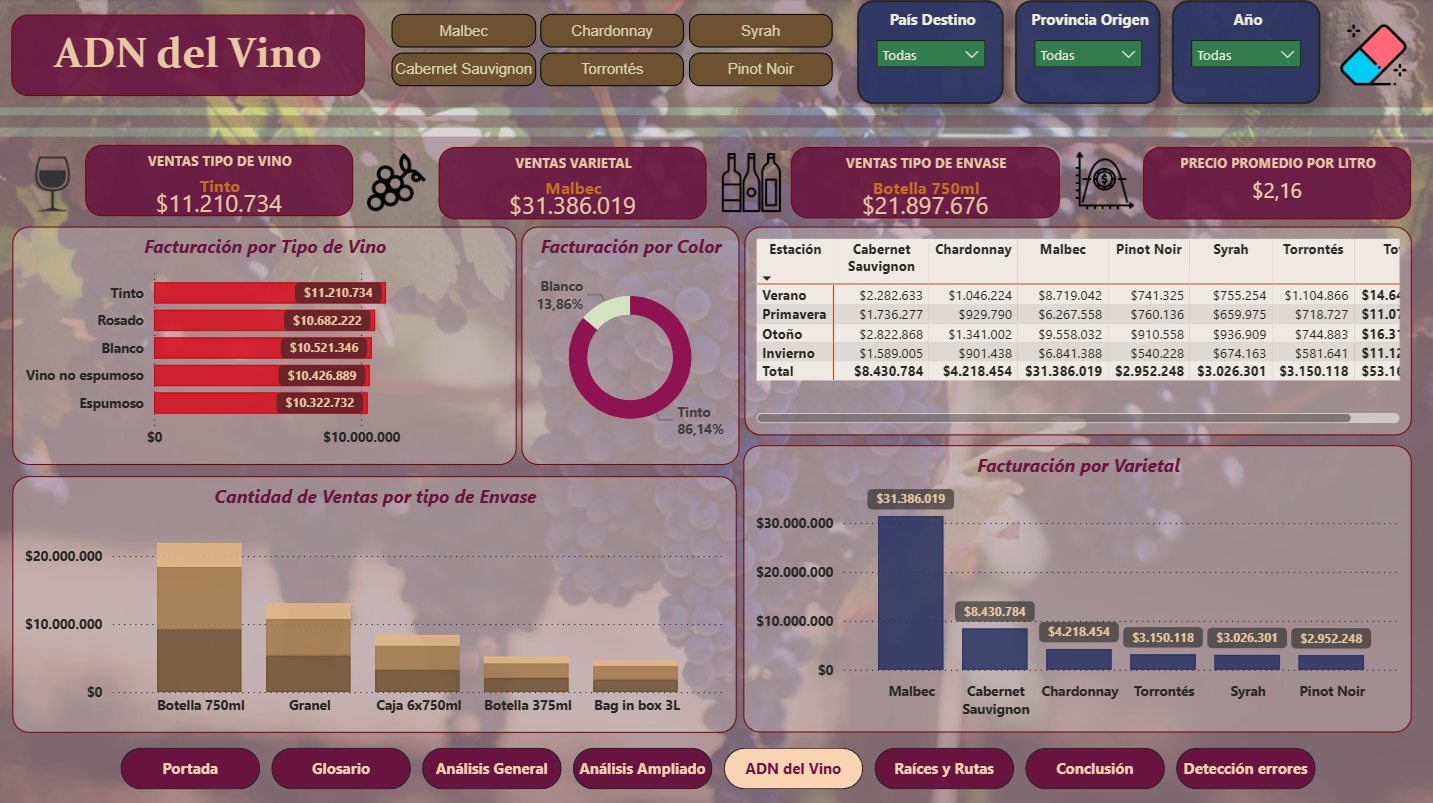

The dashboard page shown, as its layout file describes it:
{"tool":"powerbi","page":{"name":"ADN del Vino","canvas":[1280,720],"ordinal":4},"visuals":[{"type":"textbox","box":[12.1,14.9,314.4,72.8],"z":0},{"type":"ChicletSlicer1448559807354","fields":{"Category":["Varietal.Varietal"],"Values":["Medidas.Total Volumen"]},"box":[342.1,6.9,430.8,82.9],"z":1000},{"type":"slicer","title":"Provincia Origen","fields":{"Values":["Provincia_Origen.Provincia_Origen"]},"box":[903.7,2.1,129.8,92.7],"z":2000},{"type":"image","box":[1187.5,16.1,69.1,70.3],"z":3000},{"type":"pageNavigator","box":[109,666,1062,37],"z":4000},{"type":"slicer","title":"País Destino","fields":{"Values":["Pais_Destino.Pais_Destino"]},"box":[763.6,2.1,130.9,92.7],"z":5000},{"type":"clusteredBarChart","title":"Facturación por Tipo de Vino","fields":{"Category":["Tipo_Vino.Tipo_Vino"],"Y":["Medidas.Facturación"]},"box":[12.7,202.7,448.1,211.9],"z":6000},{"type":"clusteredColumnChart","fields":{"Category":["Varietal.Varietal"],"Y":["Medidas.Facturación"]},"box":[662.3,397.4,594.3,255.7],"z":7000},{"type":"pieChart","fields":{"Category":["Color.Color"],"Y":["Medidas.Facturación"]},"box":[465.3,202.7,193.5,211.9],"z":8000},{"type":"columnChart","title":"Cantidad de Ventas por tipo de  Envase","fields":{"Category":["Tipo_Envase.Tipo_Envase"],"Series":["Calendario DAX 2.Año"],"Y":["Medidas.Facturación"]},"box":[12.7,425,643.9,228.1],"z":9000},{"type":"card","title":"PRECIO PROMEDIO POR LITRO","fields":{"Values":["Medidas.Precio Promedio por Litro"]},"box":[1018.2,132.5,238.4,64.5],"z":10000},{"type":"image","box":[948.7,130.7,69.3,64],"z":11000},{"type":"pivotTable","fields":{"Columns":["Varietal.Varietal"],"Values":["Medidas.Facturación"],"Rows":["Calendario DAX 2.Estación"]},"box":[663.5,202.7,593.2,185.4],"z":12000},{"type":"kpi","title":"VENTAS VARIETAL","fields":{"Indicator":["Medidas.Facturación"],"TrendLine":["Varietal.Varietal"]},"box":[391.2,132.5,238.3,64],"z":13000},{"type":"kpi","title":"VENTAS TIPO DE VINO","fields":{"Indicator":["Medidas.Facturación"],"TrendLine":["Tipo_Vino.Tipo_Vino"]},"box":[77.1,130.7,237.9,63.6],"z":14000},{"type":"kpi","title":"VENTAS TIPO DE ENVASE","fields":{"Indicator":["Medidas.Facturación"],"TrendLine":["Tipo_Envase.Tipo_Envase"]},"box":[704.7,132.9,239,63.6],"z":15000},{"type":"image","box":[637.7,130.7,62.5,67],"z":16000},{"type":"image","box":[318.3,132.5,72,62.2],"z":17000},{"type":"image","box":[17.9,134,61.4,61.4],"z":18000},{"type":"slicer","title":"Año","fields":{"Values":["Calendario DAX 2.Año"]},"box":[1042.8,2.1,131.9,92.7],"z":19000}]}

Visuals, with their boxes in screenshot pixels (x1, y1, x2, y2), scaled from the page's 1280x720 canvas onto the 1433x803 screenshot:
textbox: (left=14, top=17, right=366, bottom=98)
ChicletSlicer1448559807354 - Varietal.Varietal x Medidas.Total Volumen: (left=383, top=8, right=865, bottom=100)
"Provincia Origen" slicer: (left=1012, top=2, right=1157, bottom=106)
image: (left=1329, top=18, right=1407, bottom=96)
pageNavigator: (left=122, top=743, right=1311, bottom=784)
"País Destino" slicer: (left=855, top=2, right=1001, bottom=106)
"Facturación por Tipo de Vino" clusteredBarChart: (left=14, top=226, right=516, bottom=462)
clusteredColumnChart - Varietal.Varietal x Medidas.Facturación: (left=741, top=443, right=1407, bottom=728)
pieChart - Color.Color x Medidas.Facturación: (left=521, top=226, right=738, bottom=462)
"Cantidad de Ventas por tipo de  Envase" columnChart: (left=14, top=474, right=735, bottom=728)
"PRECIO PROMEDIO POR LITRO" card: (left=1140, top=148, right=1407, bottom=220)
image: (left=1062, top=146, right=1140, bottom=217)
pivotTable - Varietal.Varietal x Medidas.Facturación: (left=743, top=226, right=1407, bottom=433)
"VENTAS VARIETAL" kpi: (left=438, top=148, right=705, bottom=219)
"VENTAS TIPO DE VINO" kpi: (left=86, top=146, right=353, bottom=217)
"VENTAS TIPO DE ENVASE" kpi: (left=789, top=148, right=1057, bottom=219)
image: (left=714, top=146, right=784, bottom=220)
image: (left=356, top=148, right=437, bottom=217)
image: (left=20, top=149, right=89, bottom=218)
"Año" slicer: (left=1167, top=2, right=1315, bottom=106)
